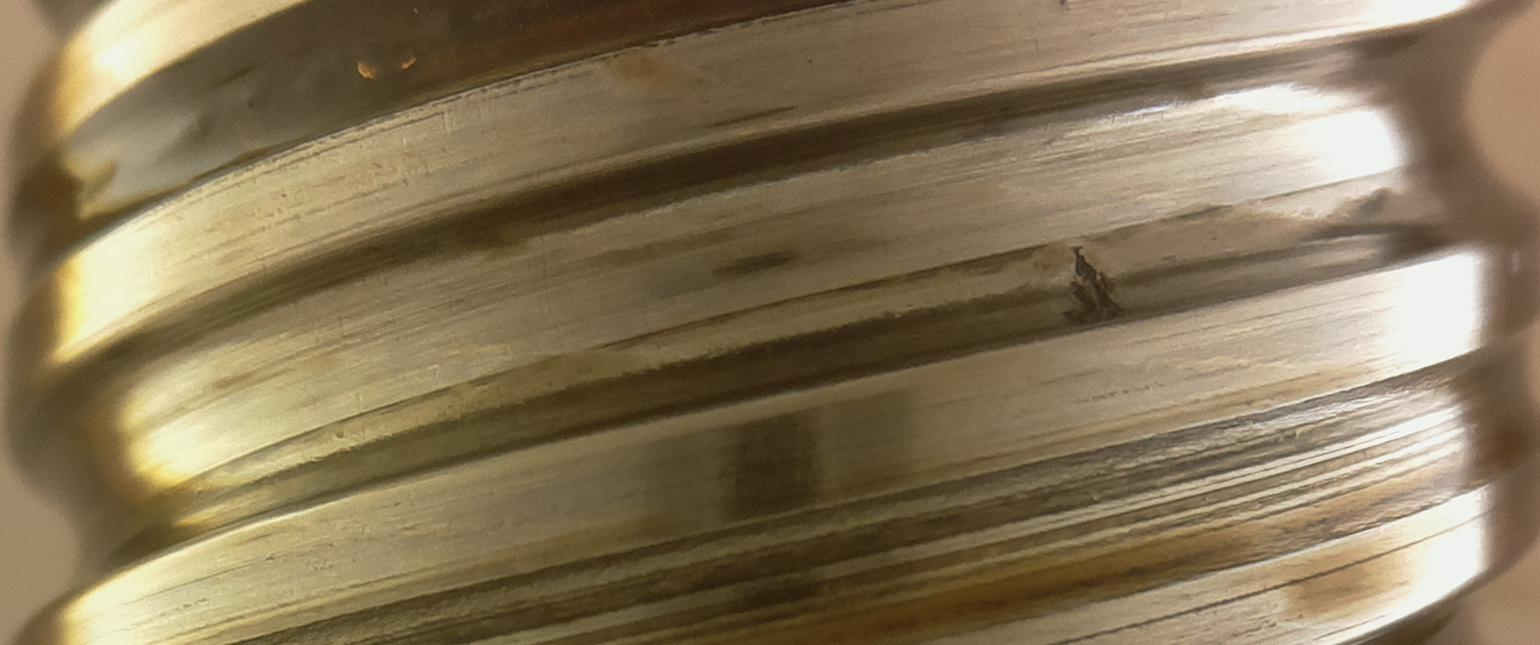pitting: (1063, 245, 1120, 325)
